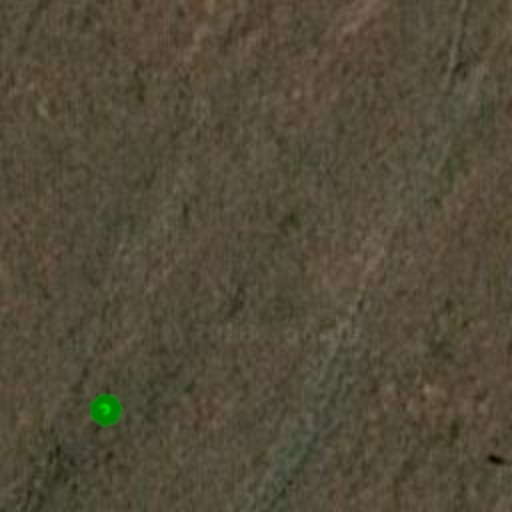heptagon: (82, 386, 130, 434)
